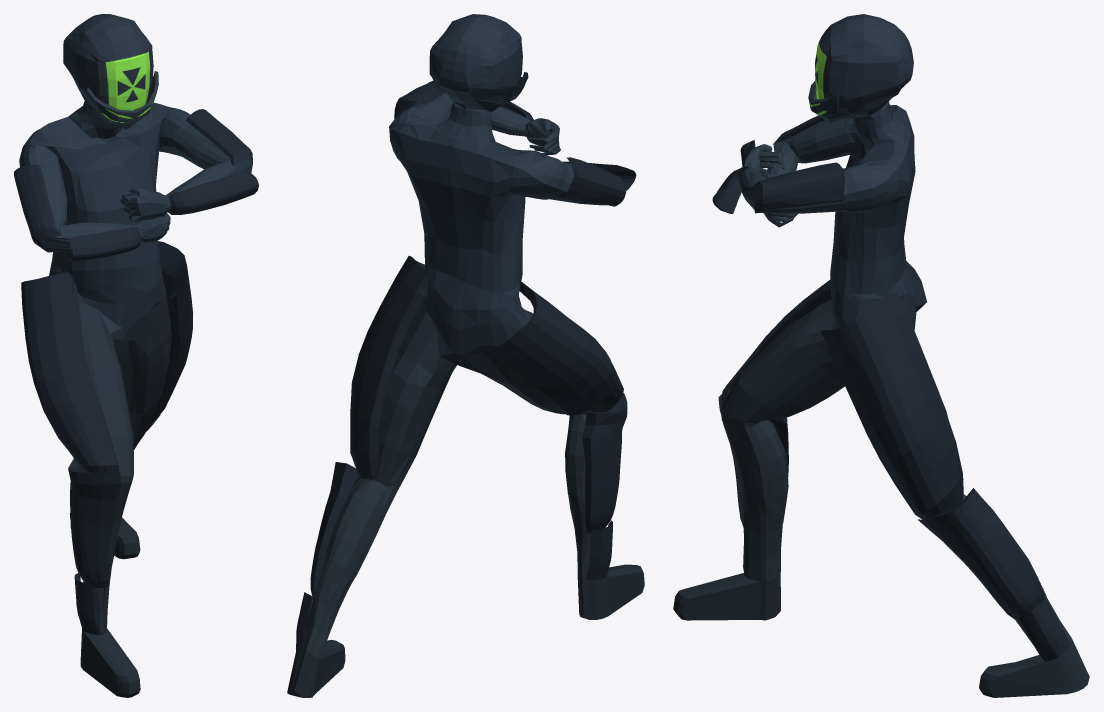
The model's file is Bastion_WF_000027.obj.
3 views of the same model, side by side, from view 1: azimuth 30°, elevation 25°; view 2: azimuth 150°, elevation 25°; view 3: azimuth 270°, elevation 25° (orthographic). The views are drawn at different scales.
Visible parts, largest first — view 1: Cube.002; view 2: Cube.002; view 3: Cube.002.
Boxes of the visible parts, box(x1,y1,x2,y2) form: Cube.002: box(14, 14, 258, 697); Cube.002: box(287, 14, 644, 697); Cube.002: box(673, 14, 1089, 697).
Size of the model in its own units: 1.31 by 3.6 by 2.14.
